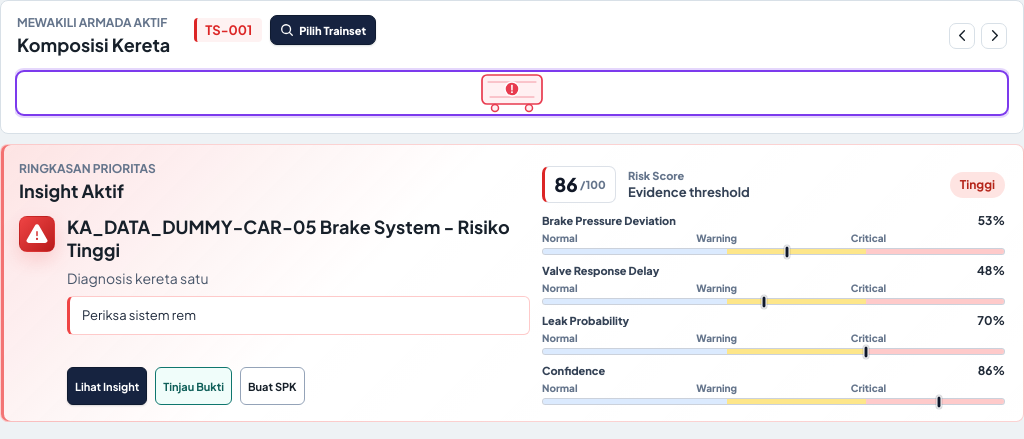
it: InteractiveTrainsetPanel › slides between trainsets that report a problem on the same car
This screenshot has width=1024, height=439.
Expected: the text titled "Kereta Satu" reads "TS-001", 205,22 -> 252,38
Expected: the text "Diagnosis kereta satu" is shown, 67,269 -> 208,287
Step 1. Click the button named "Kereta berikutnya" → point(994, 36), box 981,22 -> 1007,48
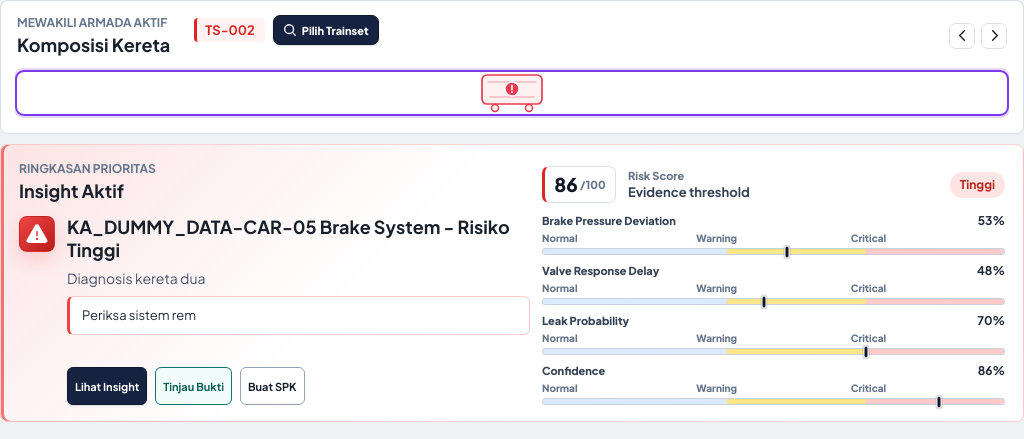
Expected: the text titled "Kereta Dua" reads "TS-002", 205,22 -> 255,38
Expected: the text "Diagnosis kereta dua" is shown, 67,269 -> 205,287
Step 2. Click the button named "Kereta sebelumnya" → point(962, 36), box 949,22 -> 975,48
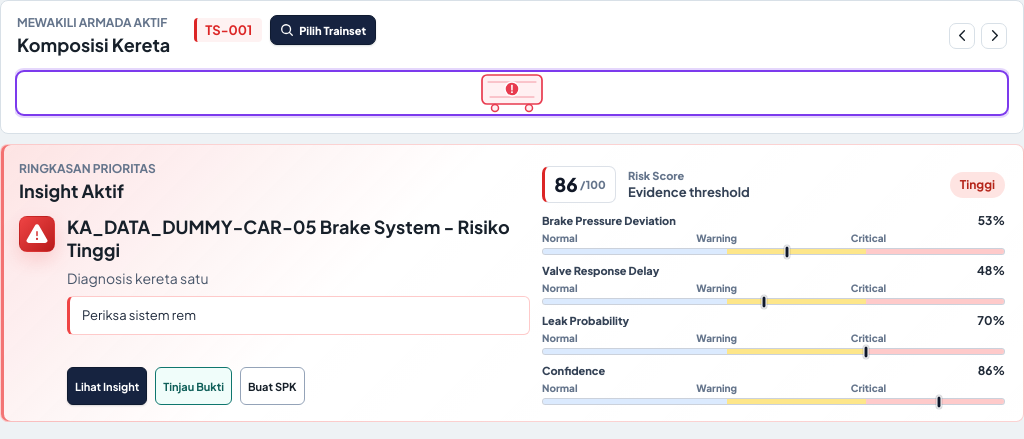
Expected: the text titled "Kereta Satu" reads "TS-001", 205,22 -> 252,38
